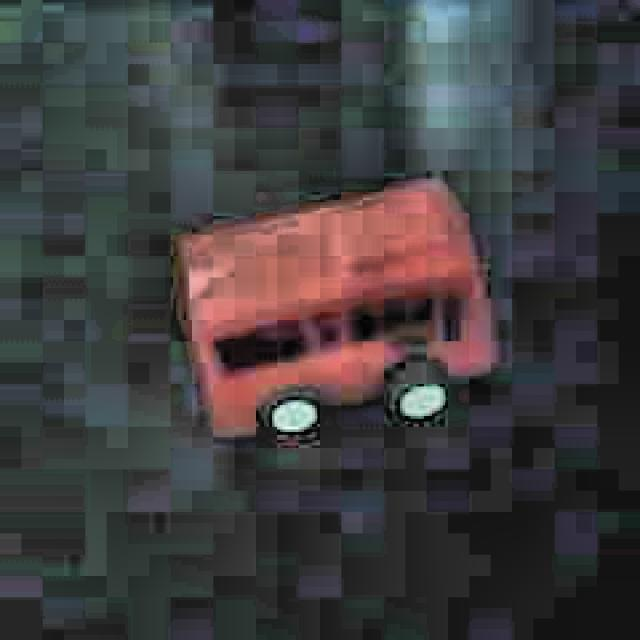bus: (171, 170, 504, 458)
